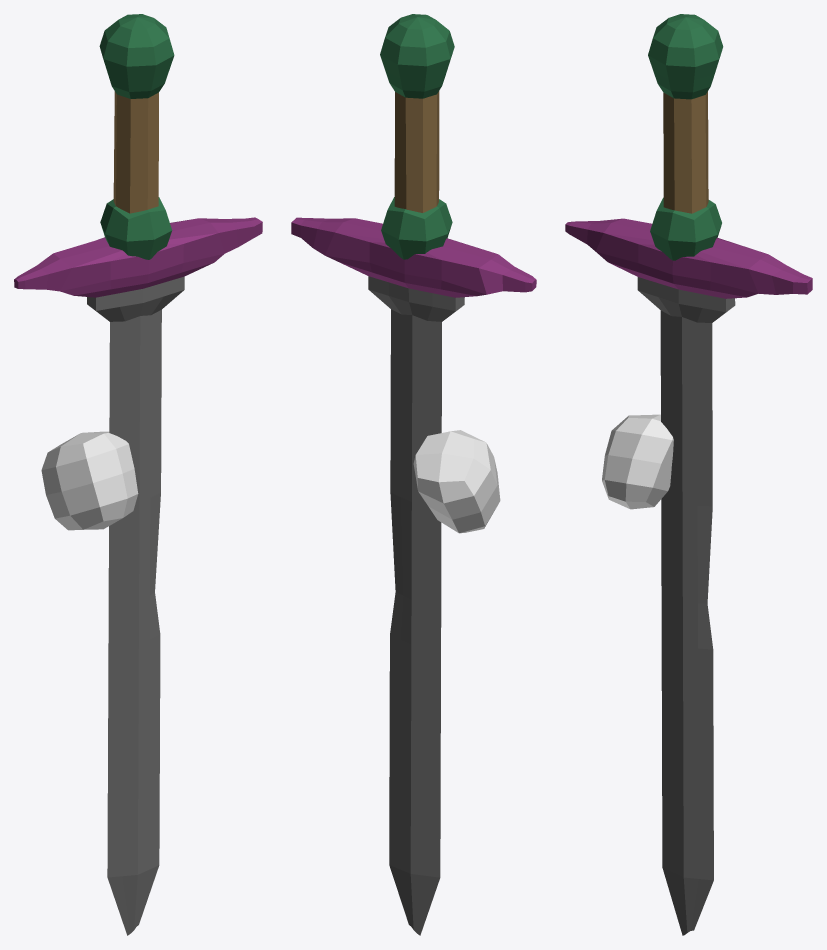
Rendered from simple_sword.glb.
The picture shows the model from 3 angles, left to right: view 1: azimuth 30°, elevation 25°; view 2: azimuth 150°, elevation 25°; view 3: azimuth 330°, elevation 25°; orthographic projection.
Parts seen in each view (by area): view 1: simple sword, cutter -noimp.004; view 2: simple sword, cutter -noimp.004; view 3: simple sword, cutter -noimp.004.
Part boxes in pixels (<box>): simple sword: <box>14,14,262,935</box>; cutter -noimp.004: <box>41,431,138,530</box>; simple sword: <box>291,14,536,935</box>; cutter -noimp.004: <box>413,430,500,533</box>; simple sword: <box>565,14,812,935</box>; cutter -noimp.004: <box>602,414,673,509</box>.
Size of the model in its own units: 0.2225 by 0.8048 by 0.0842.
